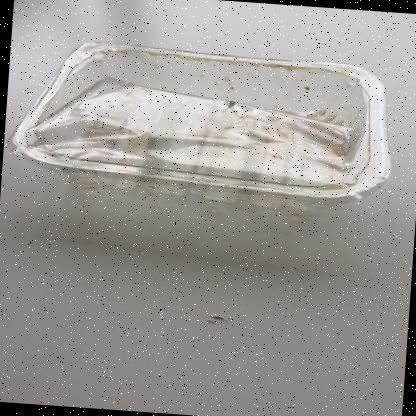Disposable food container: (13, 43, 390, 213)
Plastic film: (6, 75, 389, 204)
